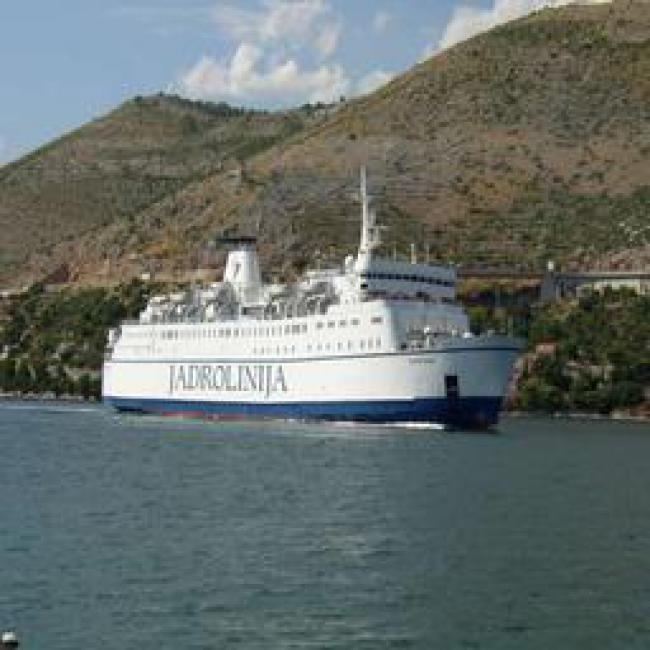Ship: (78, 271, 532, 432)
